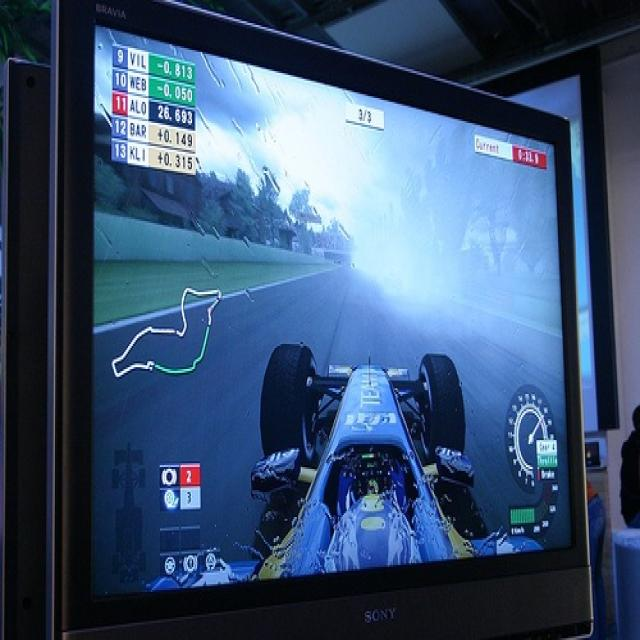tvmonitor: (57, 4, 596, 628)
